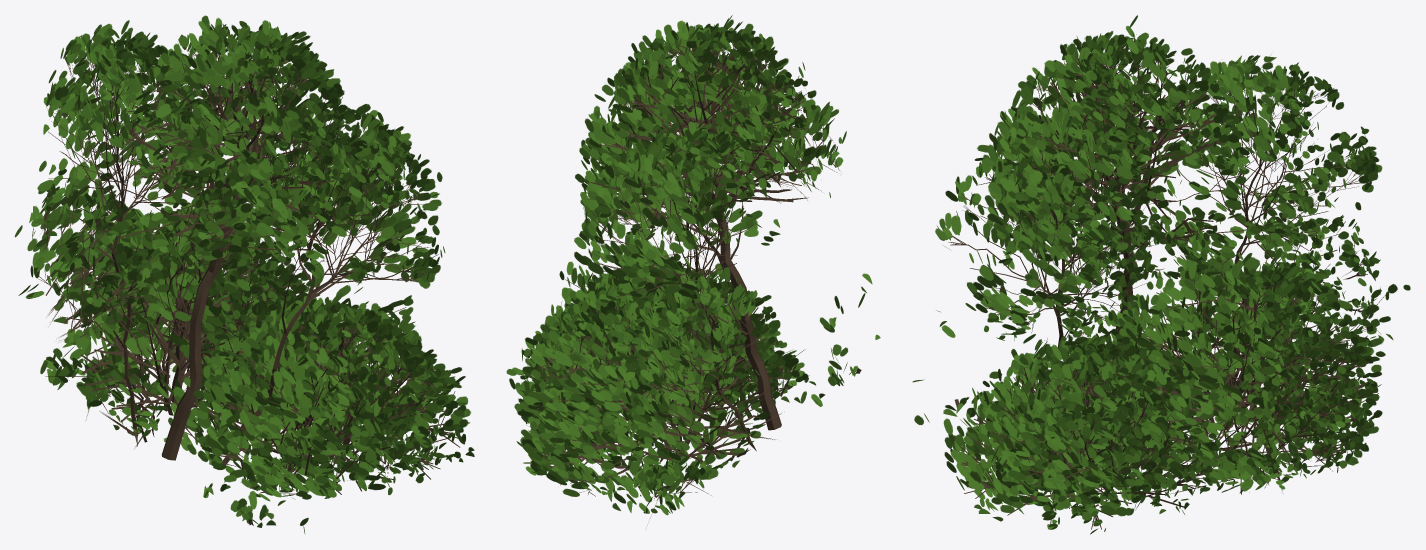
3 views of the same model, side by side, from view 1: azimuth 30°, elevation 25°; view 2: azimuth 150°, elevation 25°; view 3: azimuth 270°, elevation 25° (orthographic). The views are drawn at different scales.
Visible parts, largest first — view 1: oak 01.001_trunk_Mat.001_0.268; view 2: oak 01.001_trunk_Mat.001_0.268; view 3: oak 01.001_trunk_Mat.001_0.268.
Boxes of the visible parts, x1,y1,x2,y2 form: oak 01.001_trunk_Mat.001_0.268: [14, 15, 474, 533]; oak 01.001_trunk_Mat.001_0.268: [506, 15, 880, 525]; oak 01.001_trunk_Mat.001_0.268: [912, 15, 1410, 534].
Bounding box in the file's own units: 3.16 × 4.43 × 4.61.
2 materials, 1 textured.
